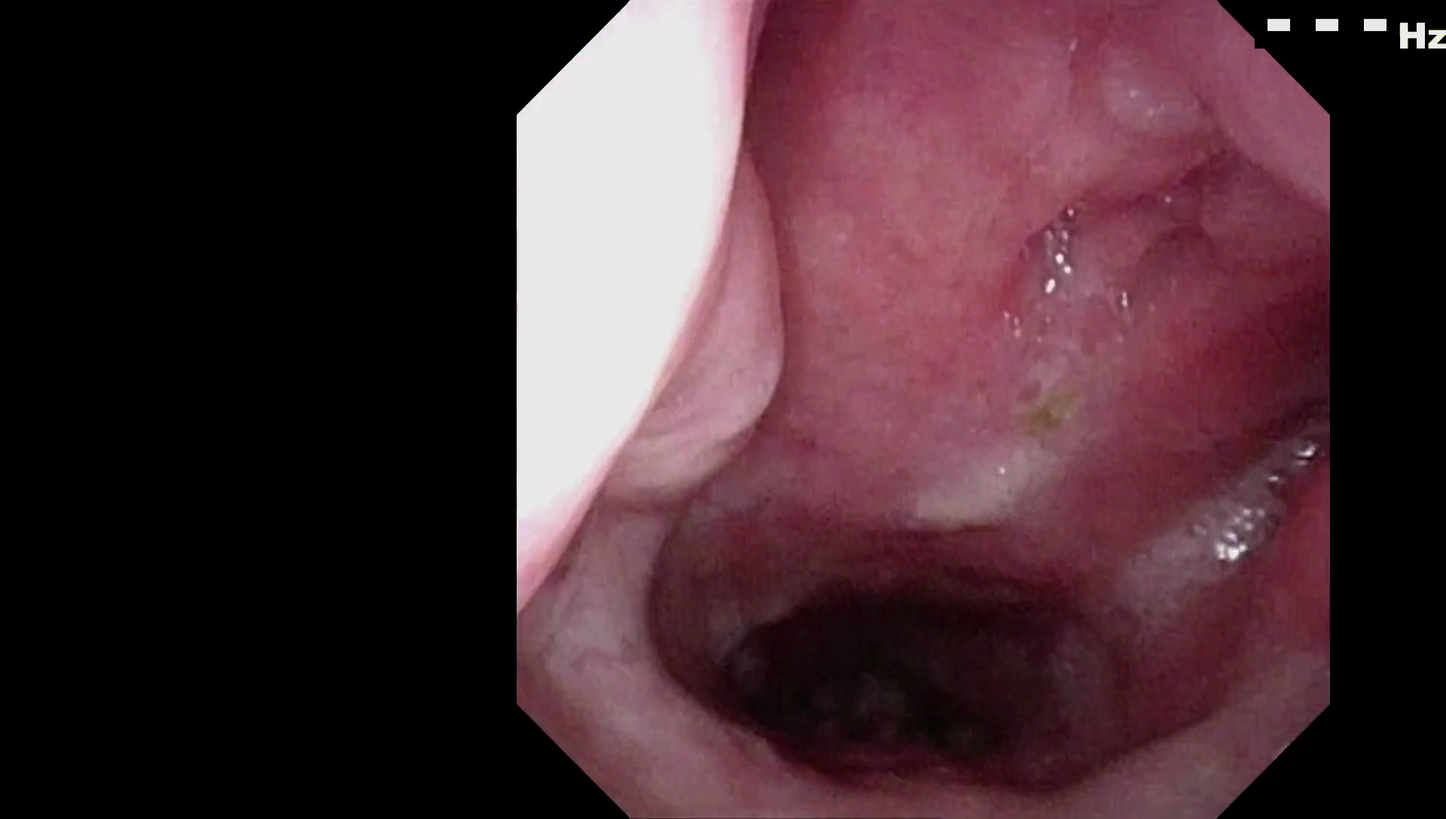close_wall: (532, 98, 779, 596)
next: (678, 507, 1028, 784)
